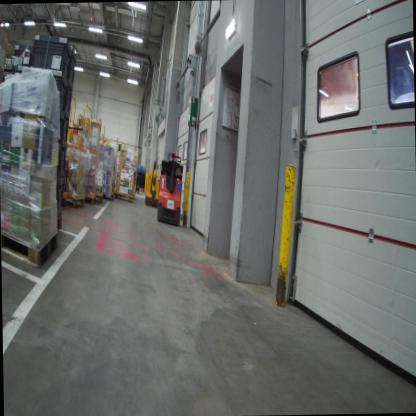pallet: (2, 221, 63, 263)
pallet_truck: (151, 142, 190, 229), (140, 157, 165, 209)
